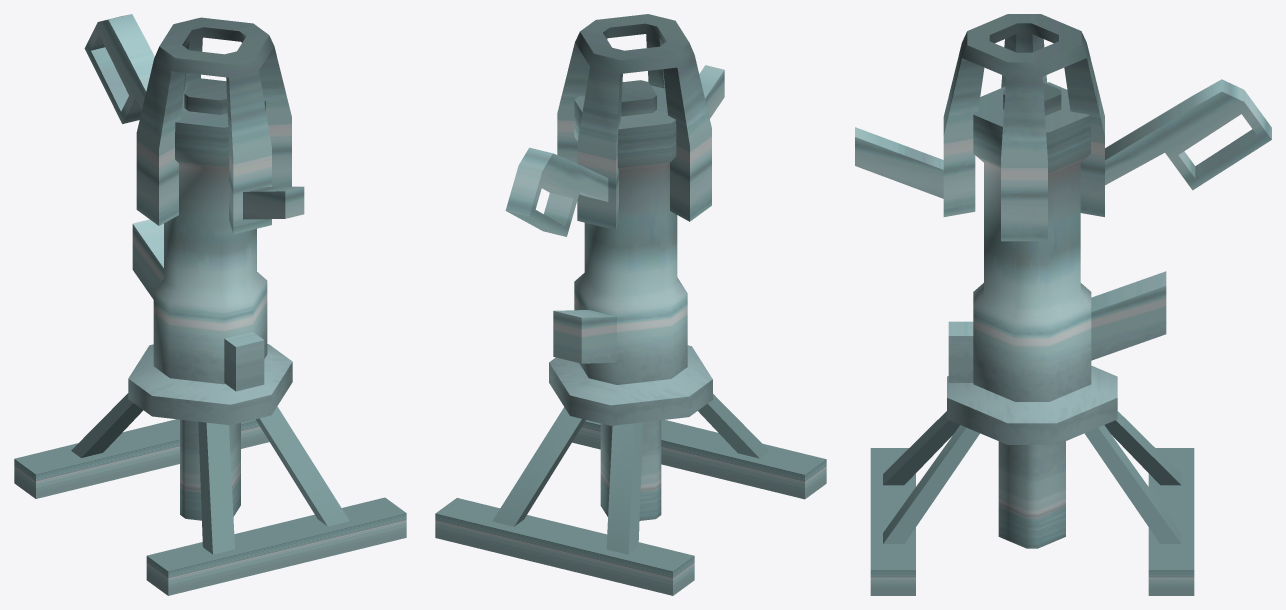
File: AdvancedSprinklerHand.fbx
3 views of the same model, side by side, from view 1: azimuth 30°, elevation 25°; view 2: azimuth 150°, elevation 25°; view 3: azimuth 270°, elevation 25° (orthographic). The views are drawn at different scales.
Parts seen in each view (by area): view 1: Sprinkler, Top; view 2: Sprinkler, Top; view 3: Sprinkler, Top.
Part boxes in pixels (bbox=[...]): Sprinkler: bbox=[14, 78, 406, 595]; Top: bbox=[84, 14, 304, 234]; Sprinkler: bbox=[435, 80, 826, 595]; Top: bbox=[505, 14, 724, 236]; Sprinkler: bbox=[870, 82, 1194, 595]; Top: bbox=[855, 14, 1271, 241].
Size of the model in its own units: 0.5446 by 1.03 by 0.7841.
